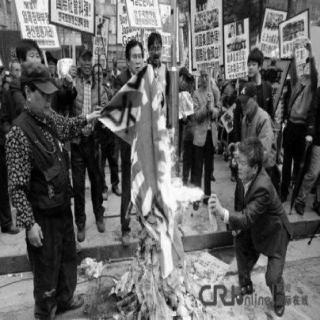other: (94, 61, 156, 243), (230, 268, 292, 308), (226, 224, 240, 240)
